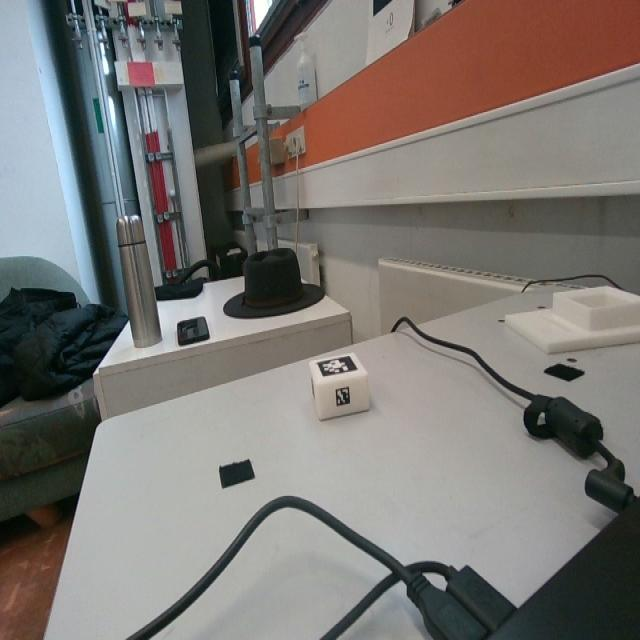Cube: (309, 351, 369, 421)
